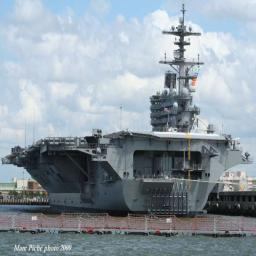Portanaves: (2, 3, 253, 221)
